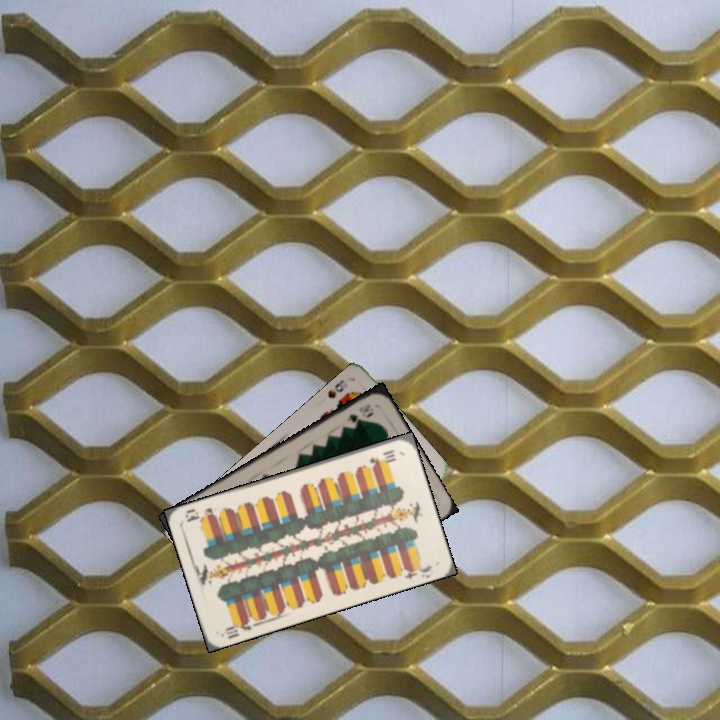E10: (219, 614, 258, 641), (365, 446, 398, 468)
G10: (342, 400, 375, 425)
S8: (324, 375, 347, 401)
